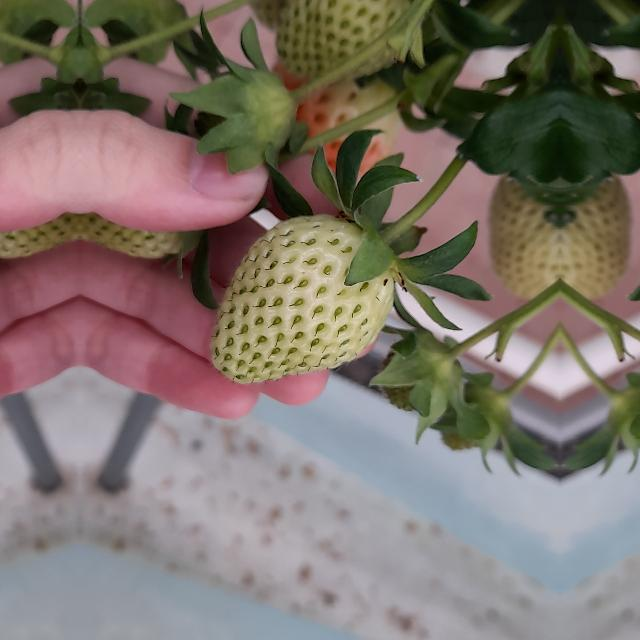Health_25: (210, 213, 394, 383), (271, 0, 419, 80), (486, 165, 560, 303), (560, 165, 634, 303)
